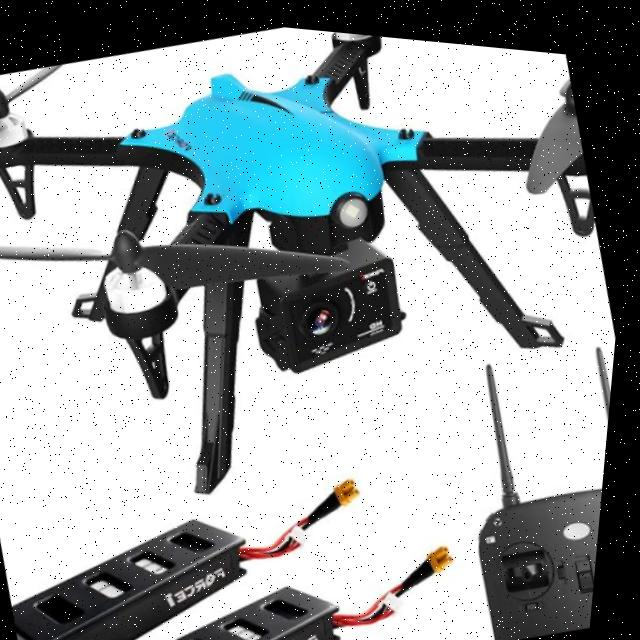drones: (0, 0, 640, 607)
